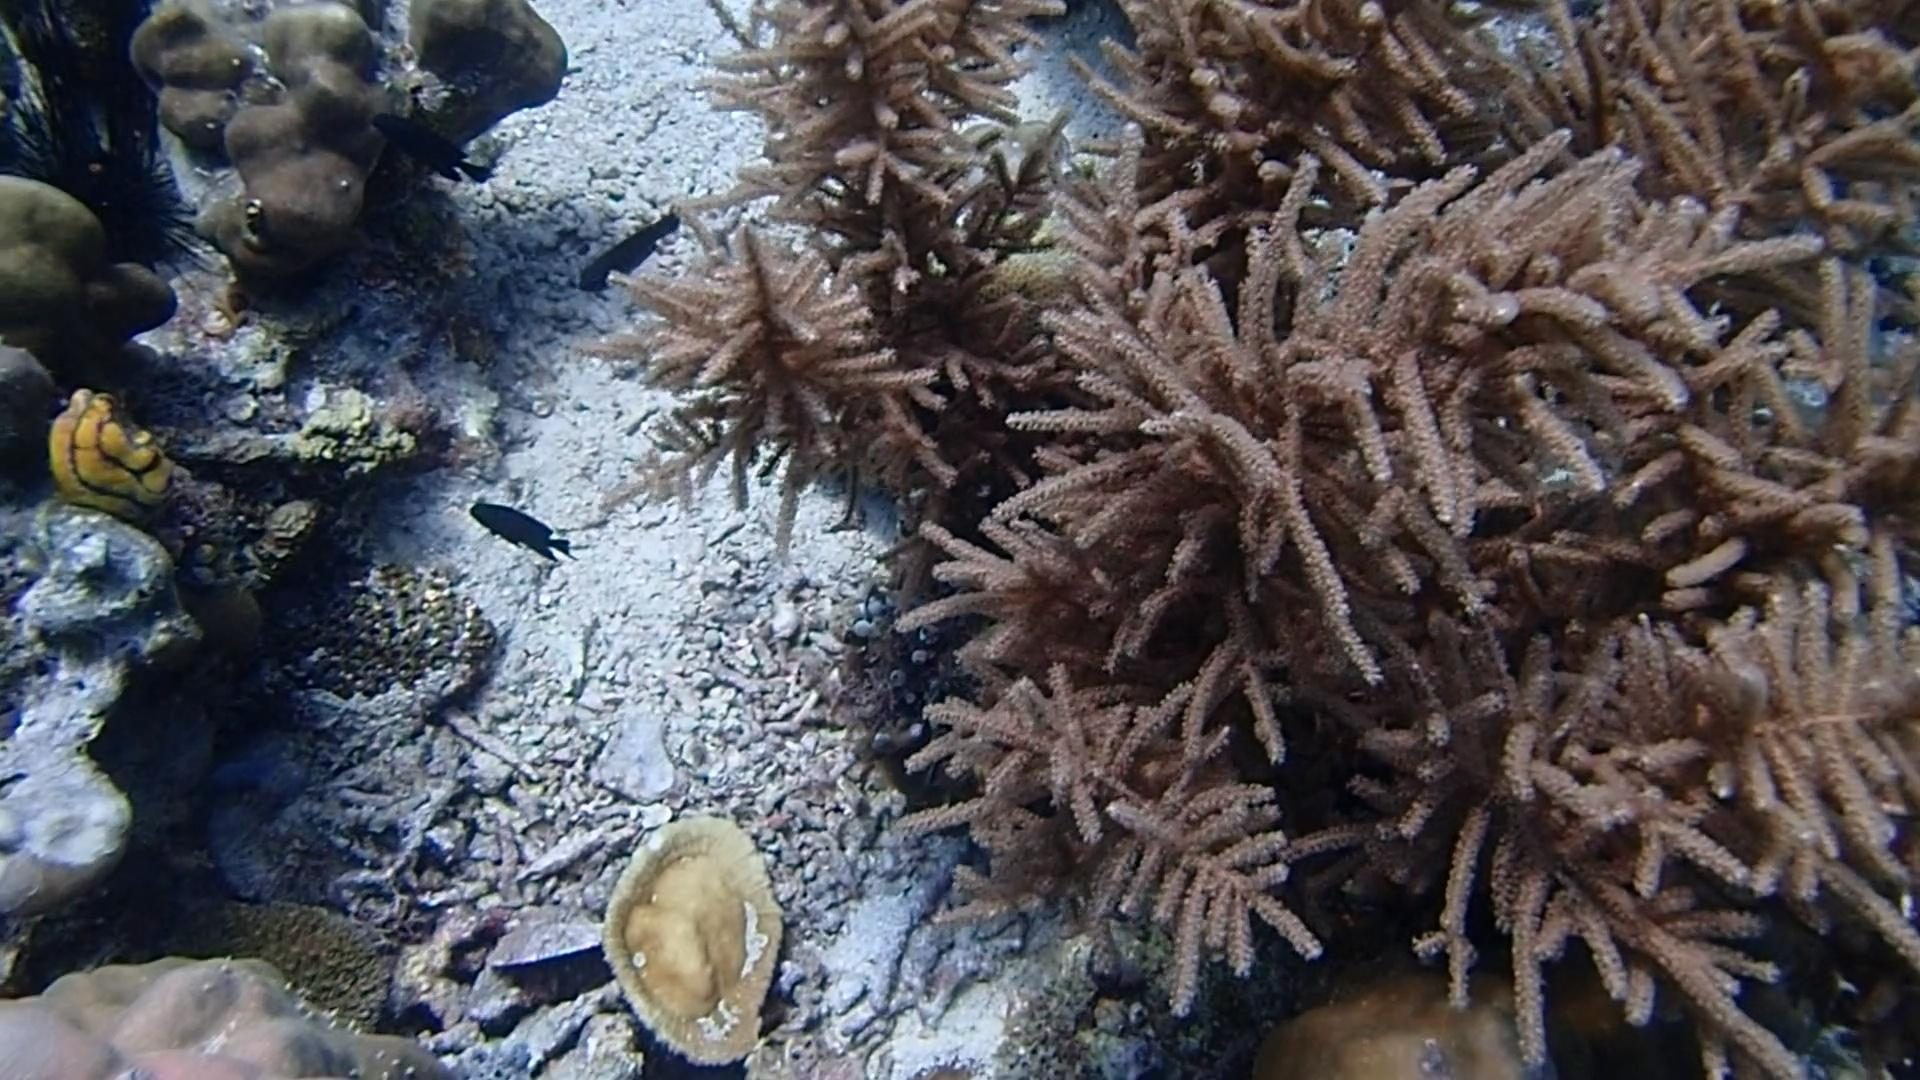Dark Fish: (359, 107, 496, 199), (572, 199, 684, 305), (467, 492, 580, 568)
